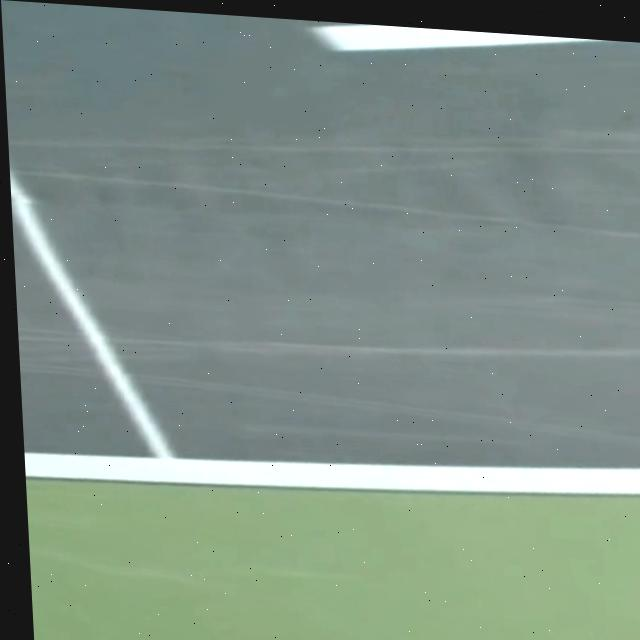center: (310, 24, 601, 51)
right: (23, 453, 640, 494)
